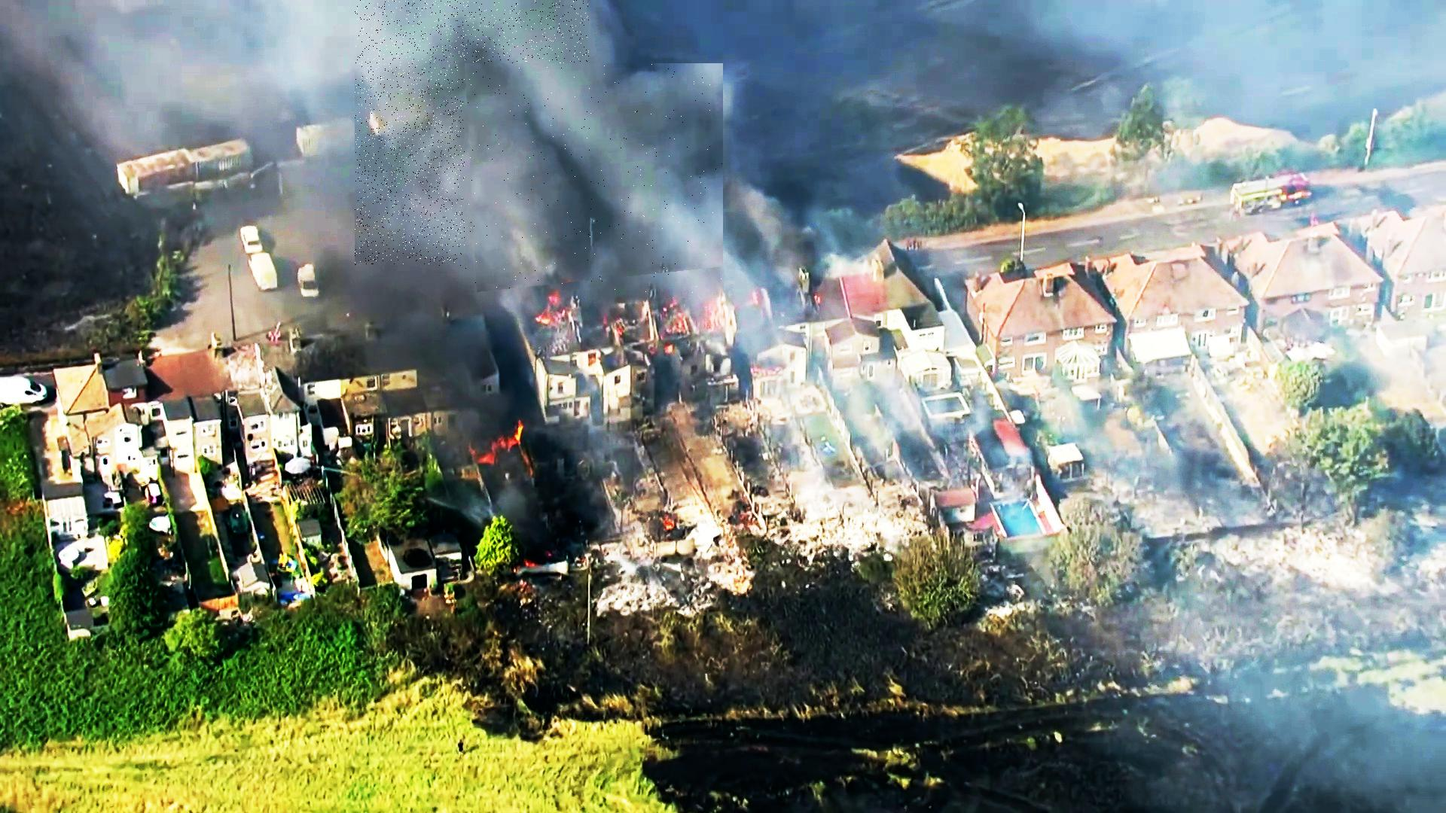smoke: (355, 0, 590, 266), (465, 64, 723, 294)
